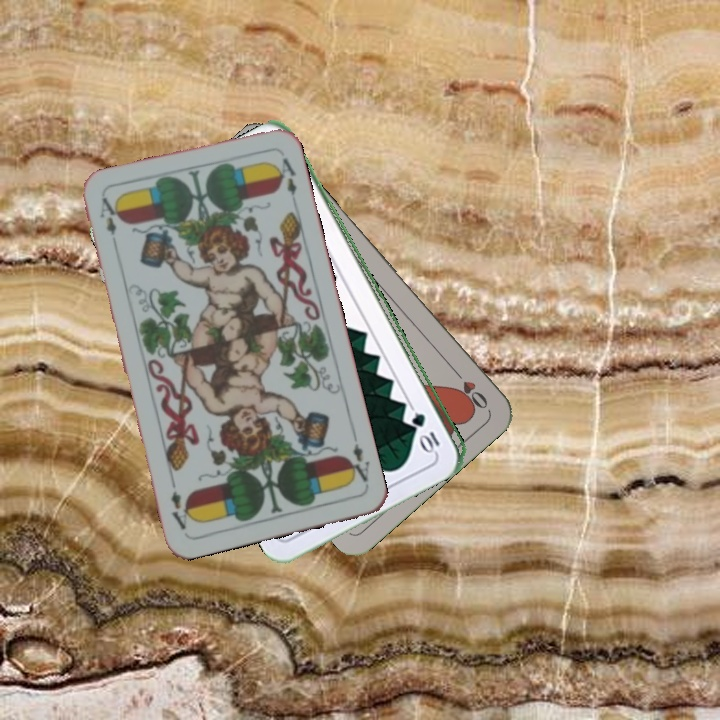EA: (342, 430, 372, 485), (96, 193, 121, 252)
G10: (410, 408, 443, 456)
HO: (447, 363, 491, 412)
